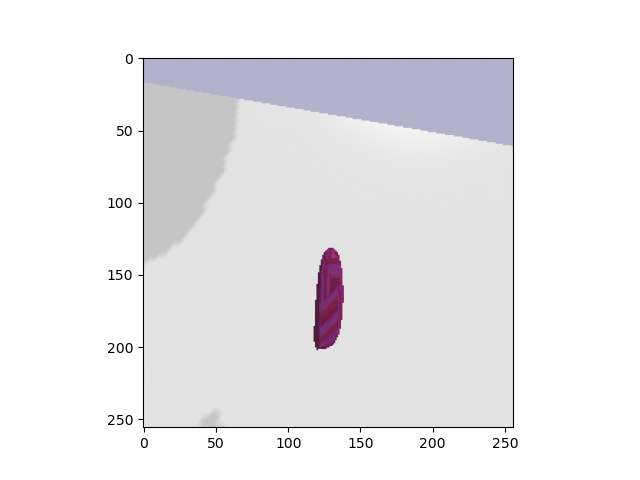v249b387_105: (307, 243, 356, 355)
